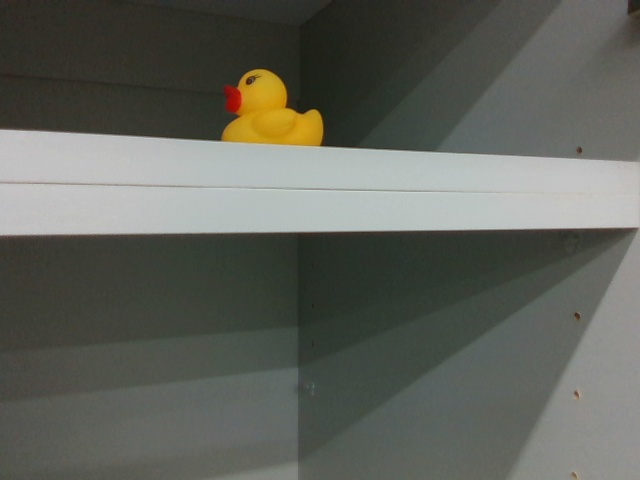duck: (213, 64, 326, 142)
